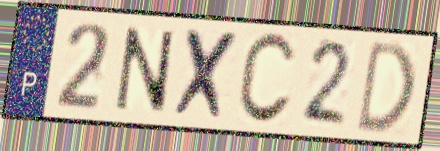2: (296, 36, 357, 133), (53, 20, 113, 110)
C: (233, 30, 299, 129)
D: (353, 37, 419, 136)
N: (113, 24, 176, 117)
X: (170, 26, 244, 124)
